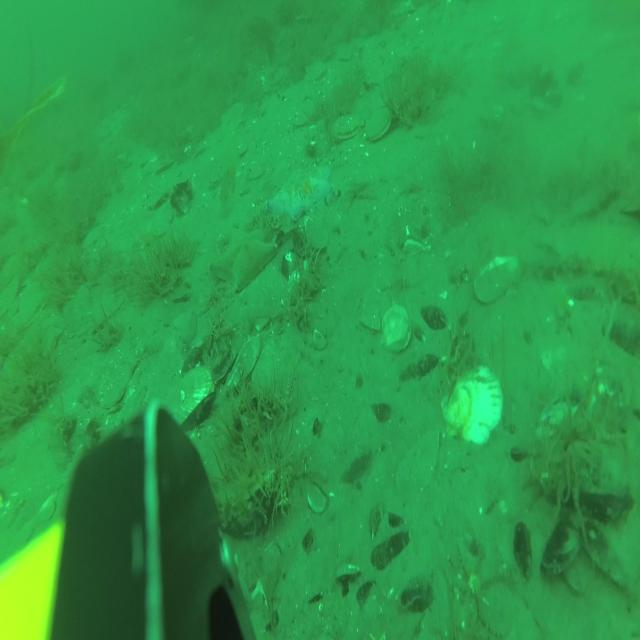scallop: (438, 360, 501, 448), (168, 368, 214, 426), (476, 253, 518, 306), (96, 356, 132, 413), (382, 308, 411, 356), (363, 105, 391, 144), (330, 110, 360, 138)
starfish: (208, 222, 280, 293), (267, 162, 335, 223)
